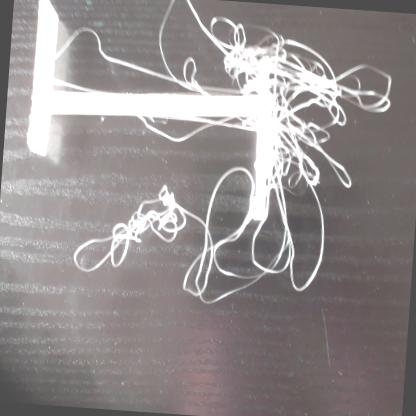fail: (261, 34, 395, 302), (73, 152, 256, 310), (108, 1, 265, 103)
